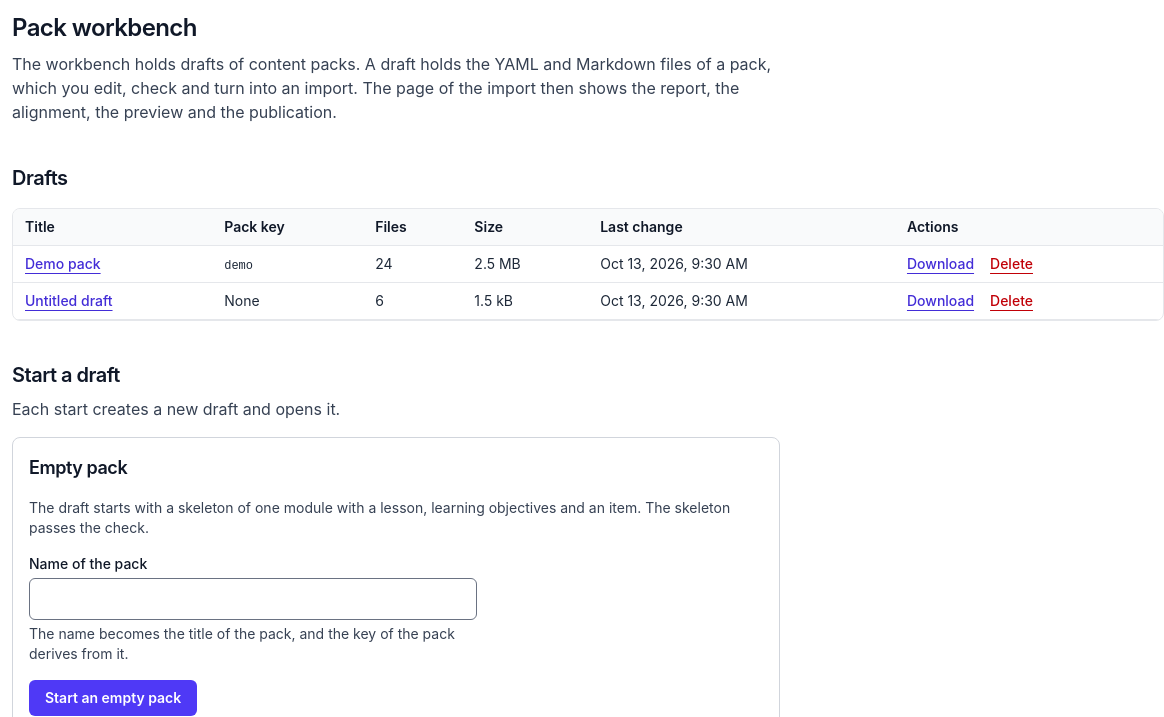
Test: the download of a draft › a failed media entry holds the download back with the reason of the draft page
Click the link named "Download Demo pack" at x=941, y=264, box [907, 254, 974, 274]
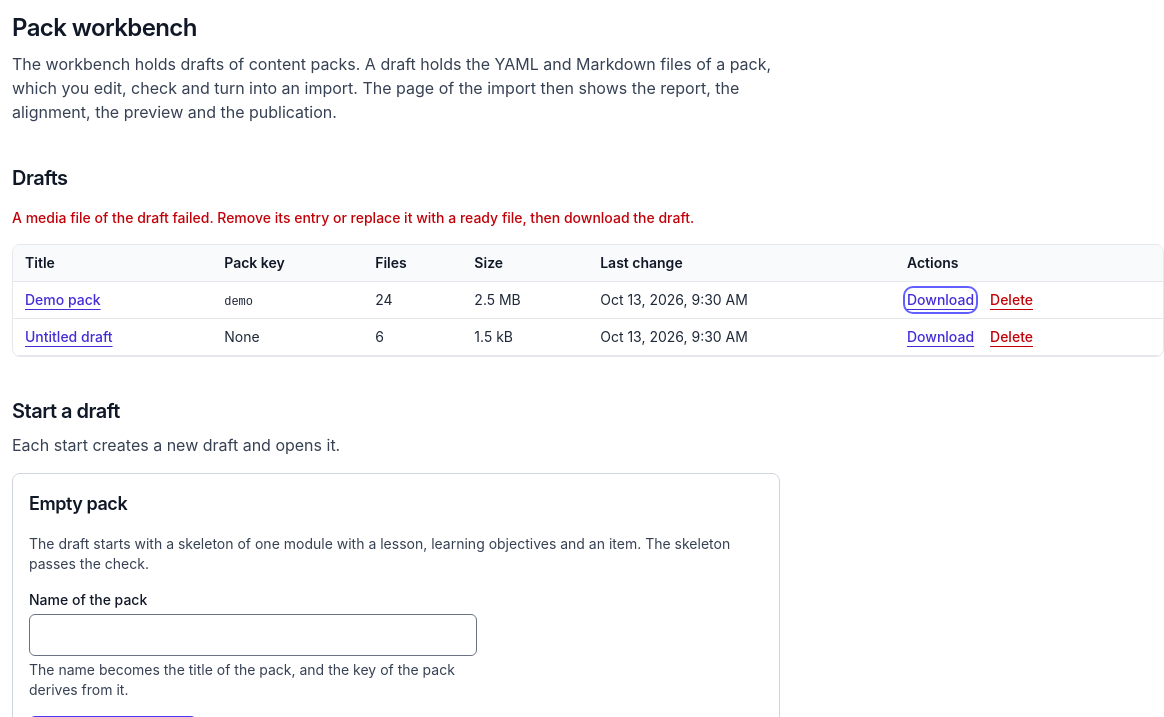
Result: the text "A media file of the draft failed. Remove its entry or replace it with a ready file, then download the draft." is shown at [12, 209, 694, 226]
